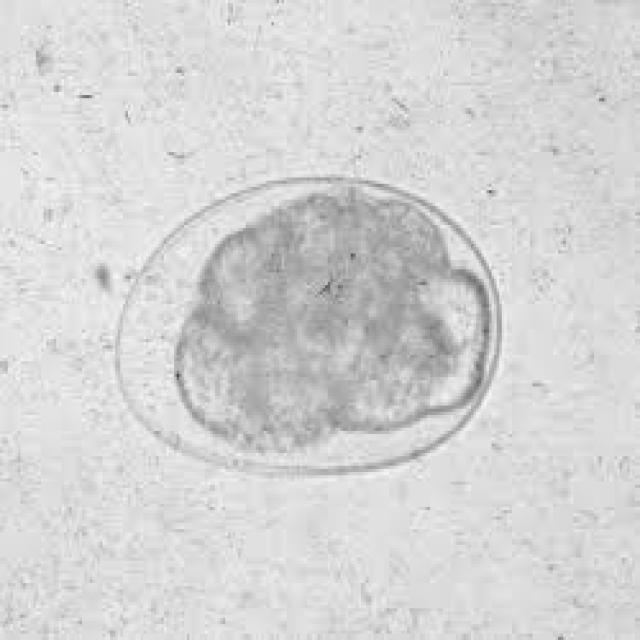Ancylostoma Spp: (108, 166, 506, 480)
